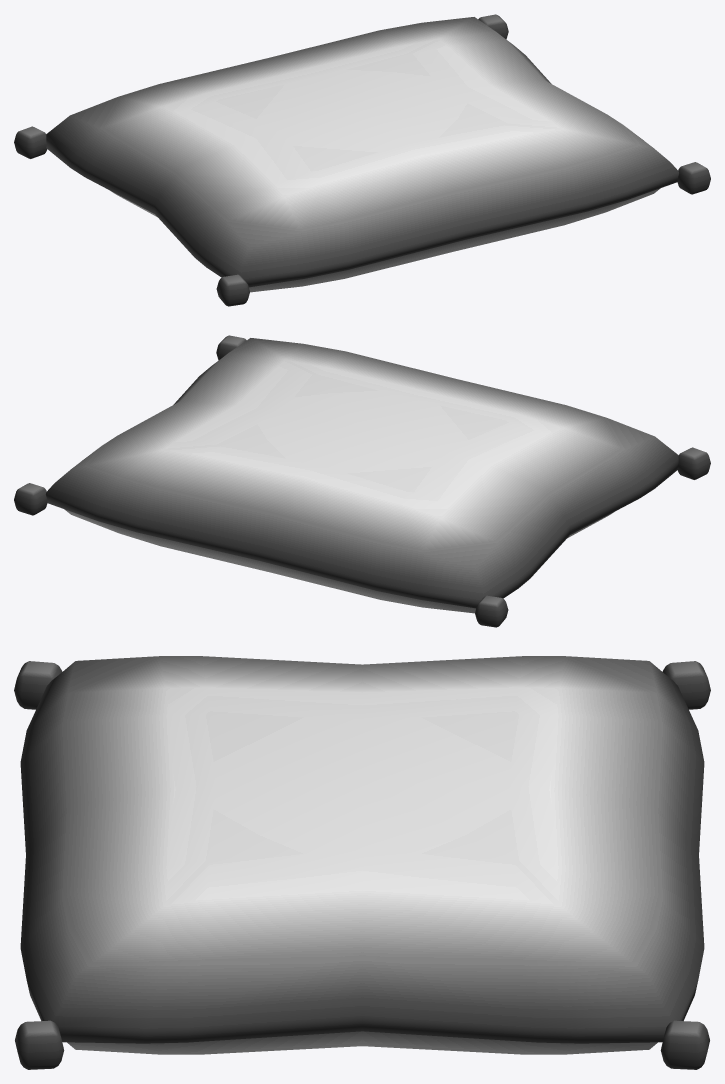
Rendered from pillow_1.fbx.
The picture shows the model from 3 angles, top to bottom: view 1: azimuth 30°, elevation 25°; view 2: azimuth 150°, elevation 25°; view 3: azimuth 270°, elevation 25°; orthographic projection. The views are drawn at different scales.
Visible parts, largest first — view 1: Cube.004; view 2: Cube.004; view 3: Cube.004.
Part boxes in pixels (left/top/right/bottom): Cube.004: left=14, top=14, right=710, bottom=306; Cube.004: left=14, top=335, right=710, bottom=627; Cube.004: left=14, top=656, right=710, bottom=1069.
Bounding box in the file's own units: 222 × 39.74 × 172.
